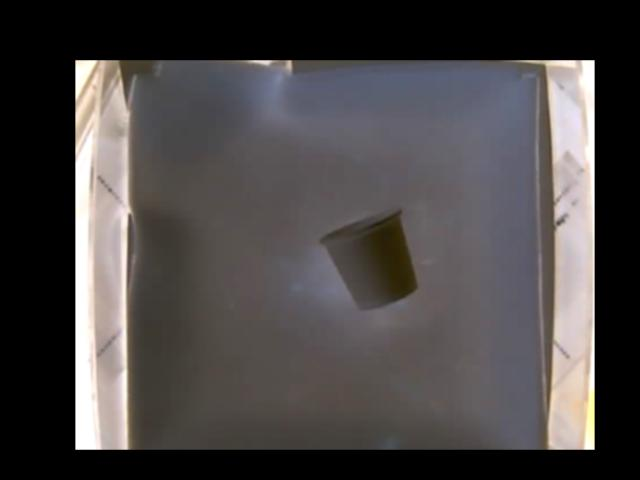Cup: (321, 208, 418, 310)
